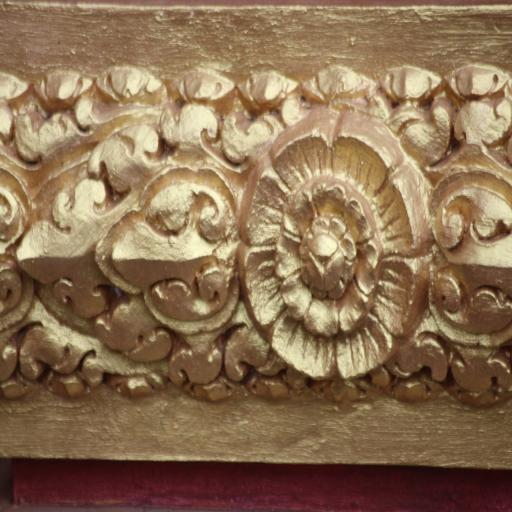hoa: (236, 109, 425, 376)
la: (8, 104, 241, 367), (423, 100, 512, 379)
